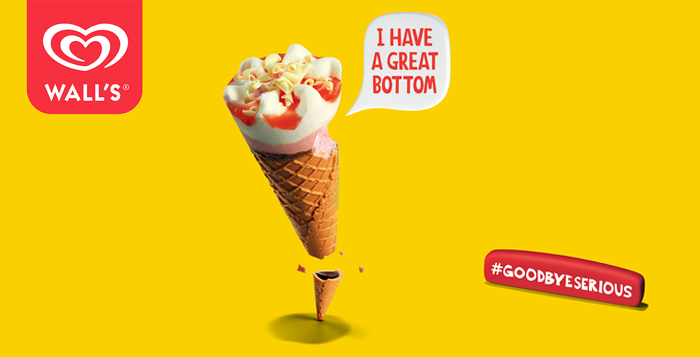Kwality_Walls: (31, 13, 138, 113)
